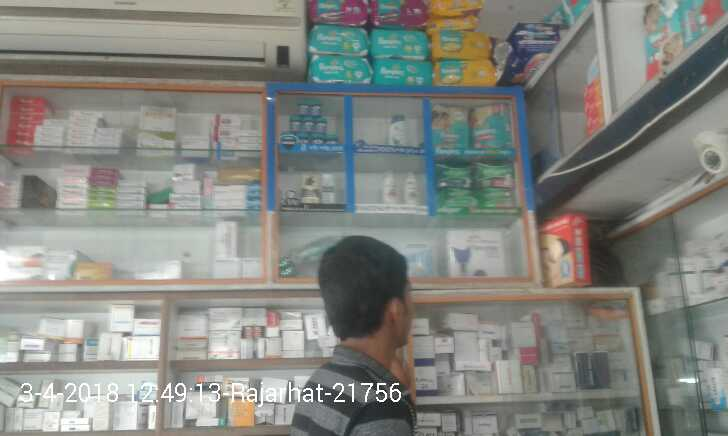vicks: (290, 98, 337, 142)
